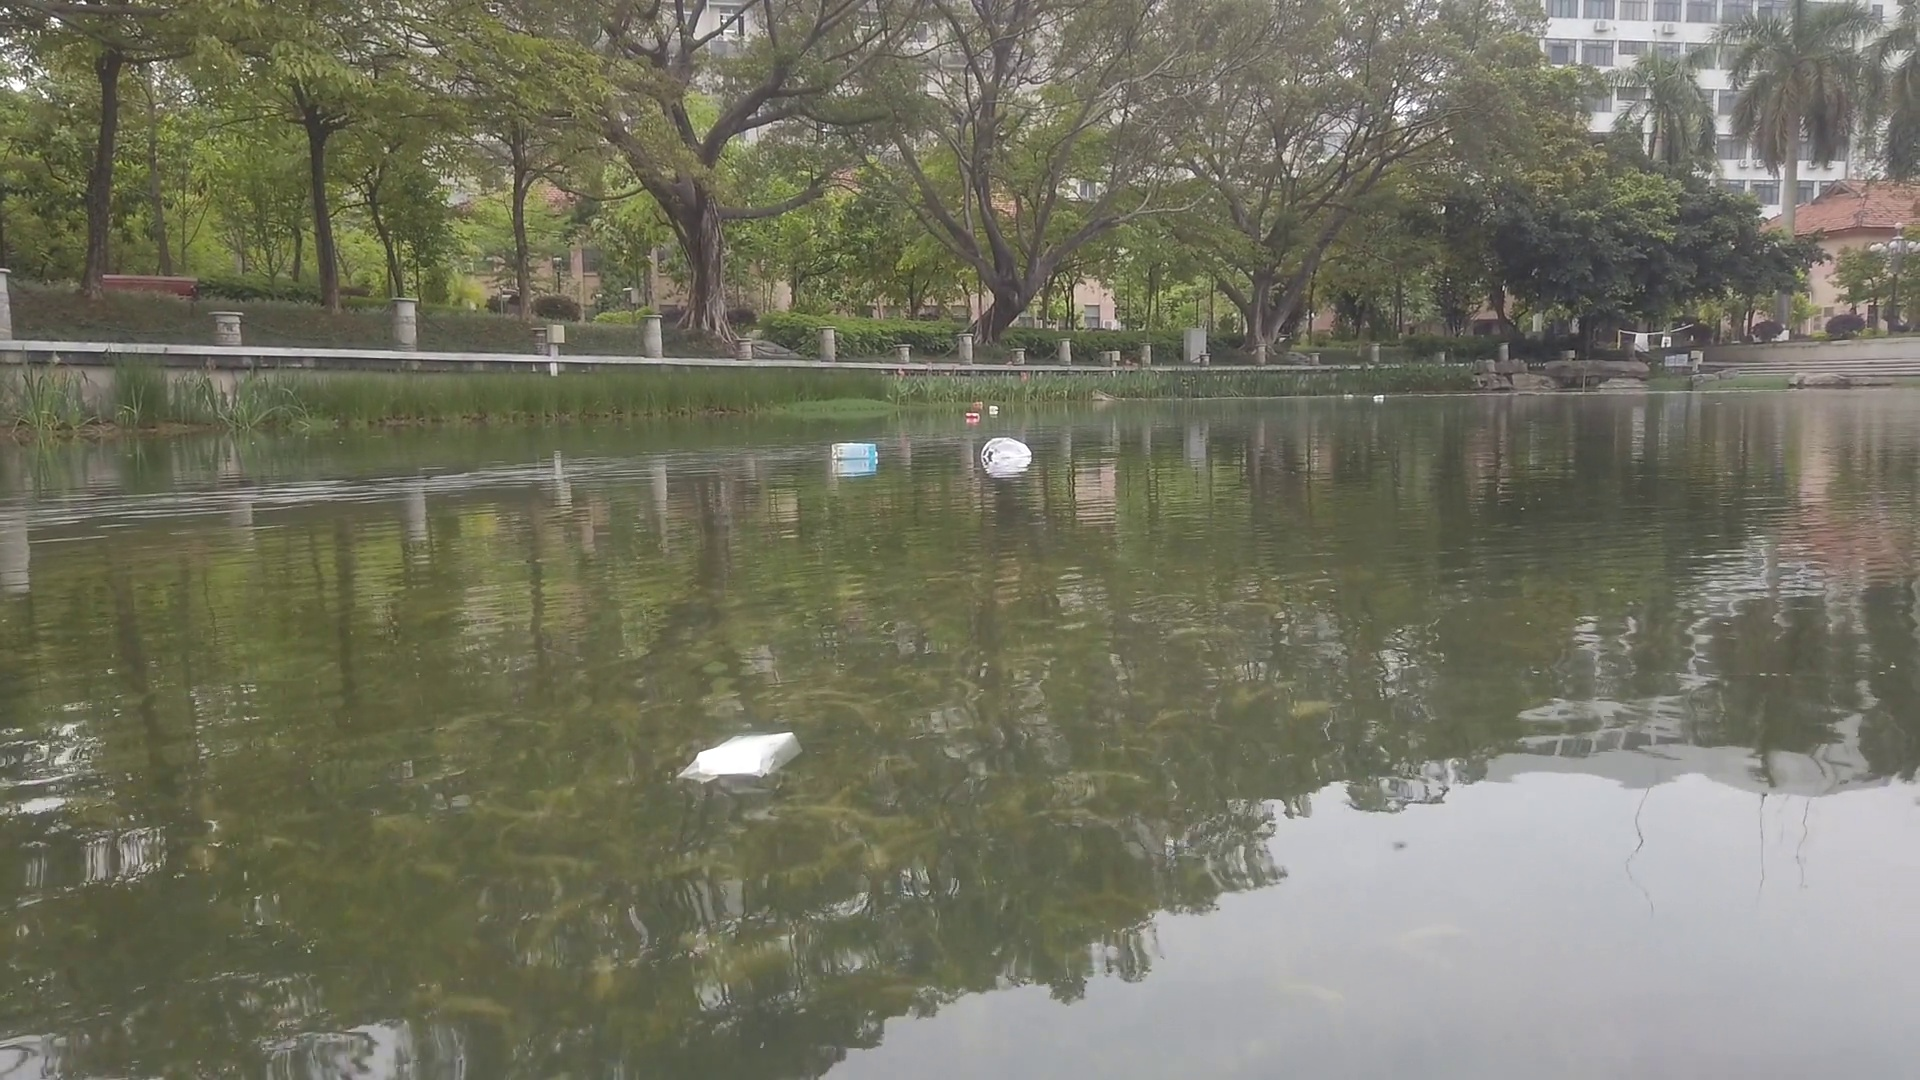bottle: (964, 413, 980, 419), (972, 400, 985, 406), (1374, 394, 1385, 401), (1344, 394, 1353, 400), (990, 406, 998, 410)
carton: (694, 727, 798, 774), (829, 443, 881, 459)
plastic: (982, 436, 1036, 460)
